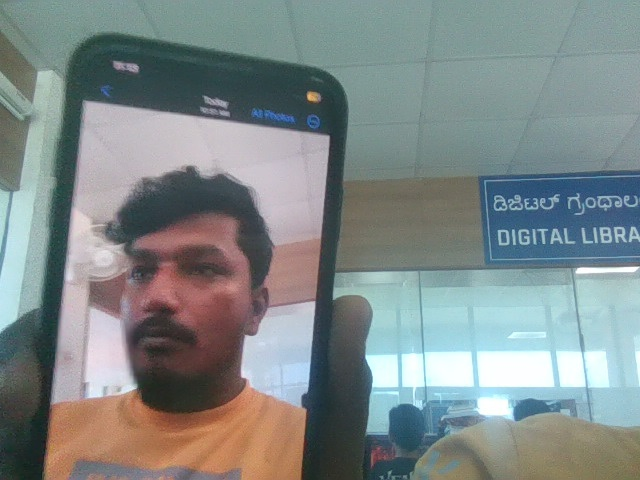fake: (99, 145, 283, 406)
